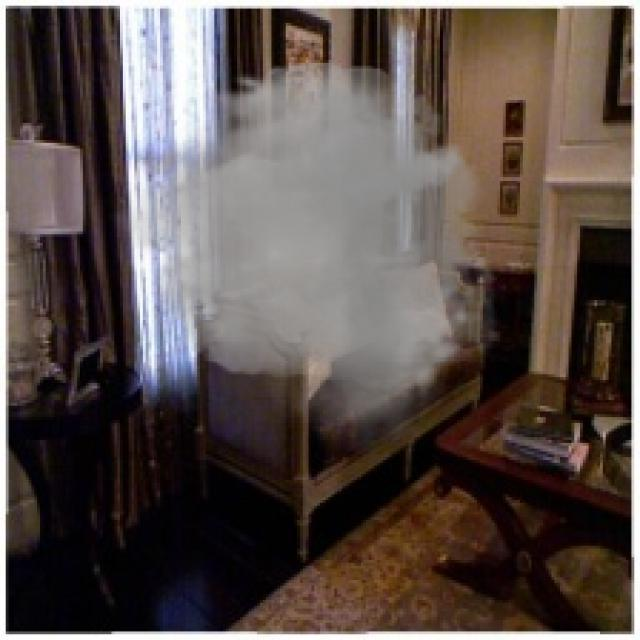Smoke: (106, 52, 514, 454)
